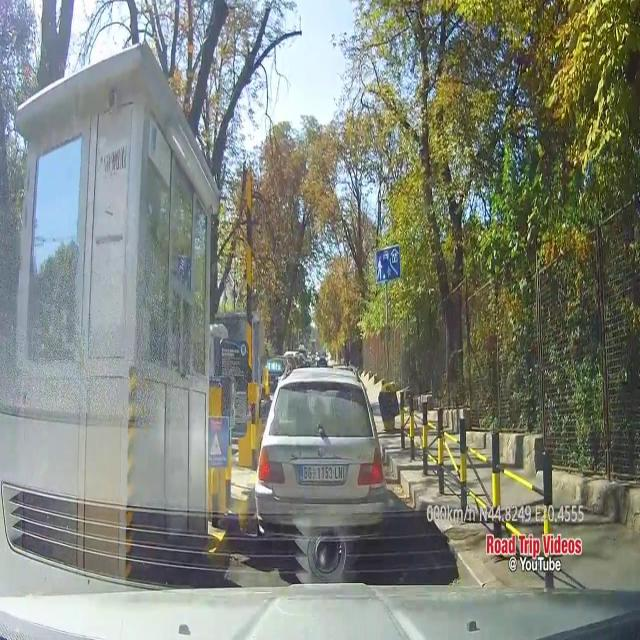License-plate: (296, 462, 346, 487)
